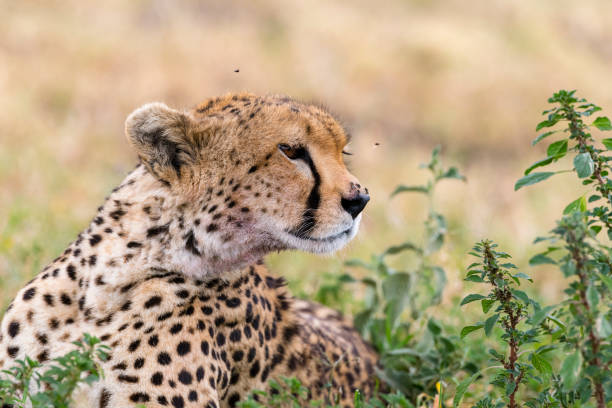cheetah: (125, 84, 391, 295)
